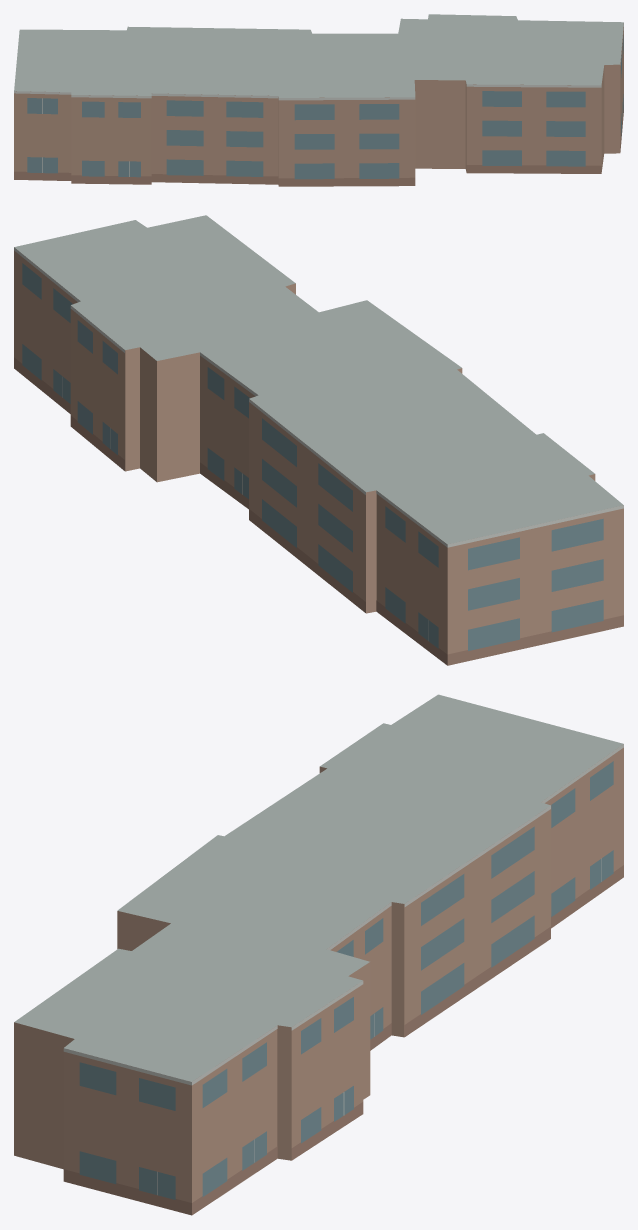
The model's file is survey-upis-32590692.glb.
The picture shows the model from 3 angles, top to bottom: view 1: azimuth 30°, elevation 25°; view 2: azimuth 150°, elevation 25°; view 3: azimuth 270°, elevation 25°; orthographic projection. The views are drawn at different scales.
Parts seen in each view (by area): view 1: survey-upis-32590692.tmp; view 2: survey-upis-32590692.tmp; view 3: survey-upis-32590692.tmp.
Part boxes in pixels (x1,y1,x2,y2): survey-upis-32590692.tmp: [14, 14, 623, 186]; survey-upis-32590692.tmp: [14, 215, 623, 665]; survey-upis-32590692.tmp: [14, 694, 623, 1215].
Bounding box in the file's own units: 57 × 9.15 × 37.91.
